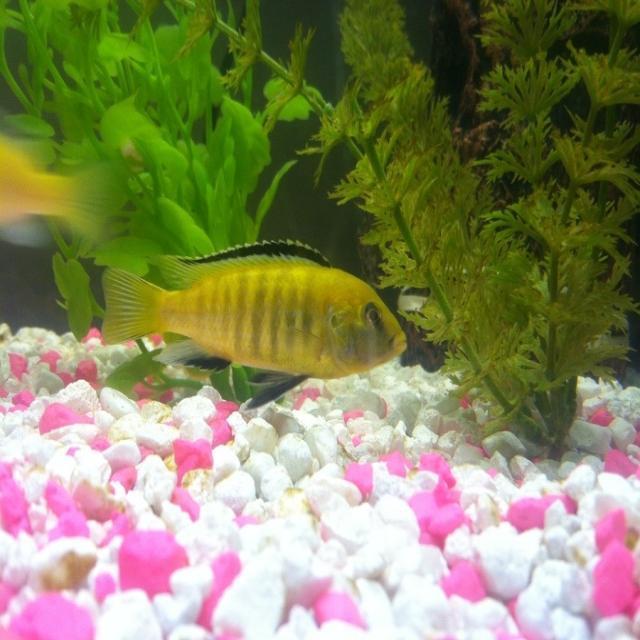YellowCichlid: (84, 224, 427, 442)
